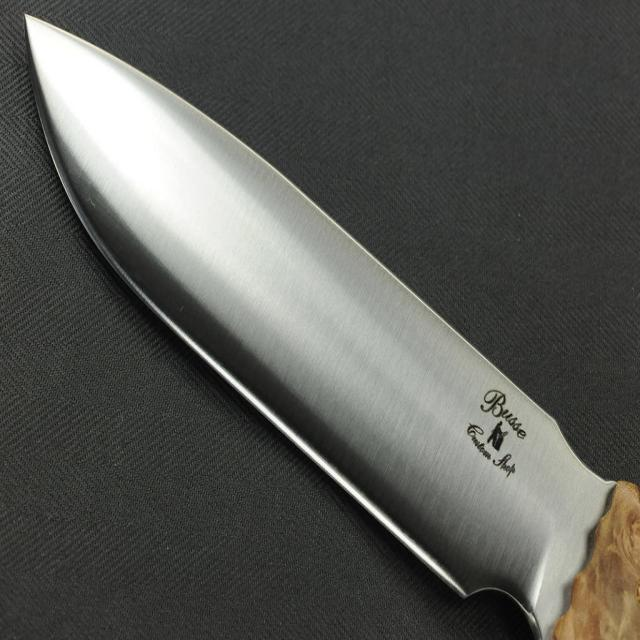Knife: (23, 16, 640, 640)
